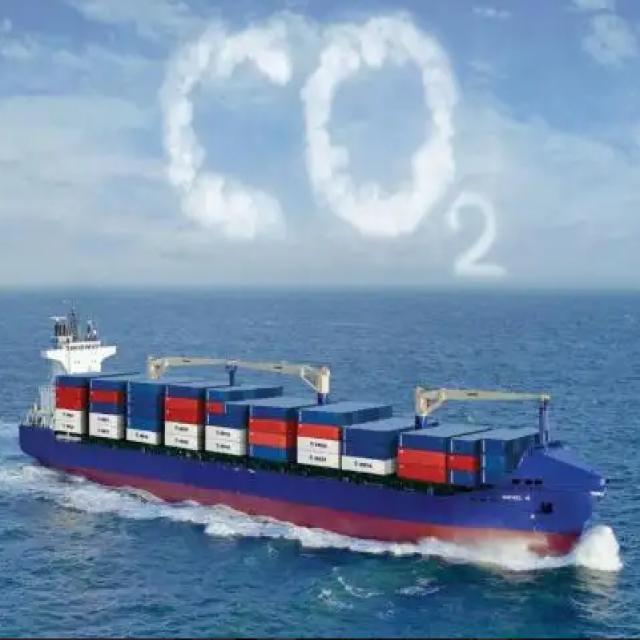cargoship: (16, 282, 600, 580)
